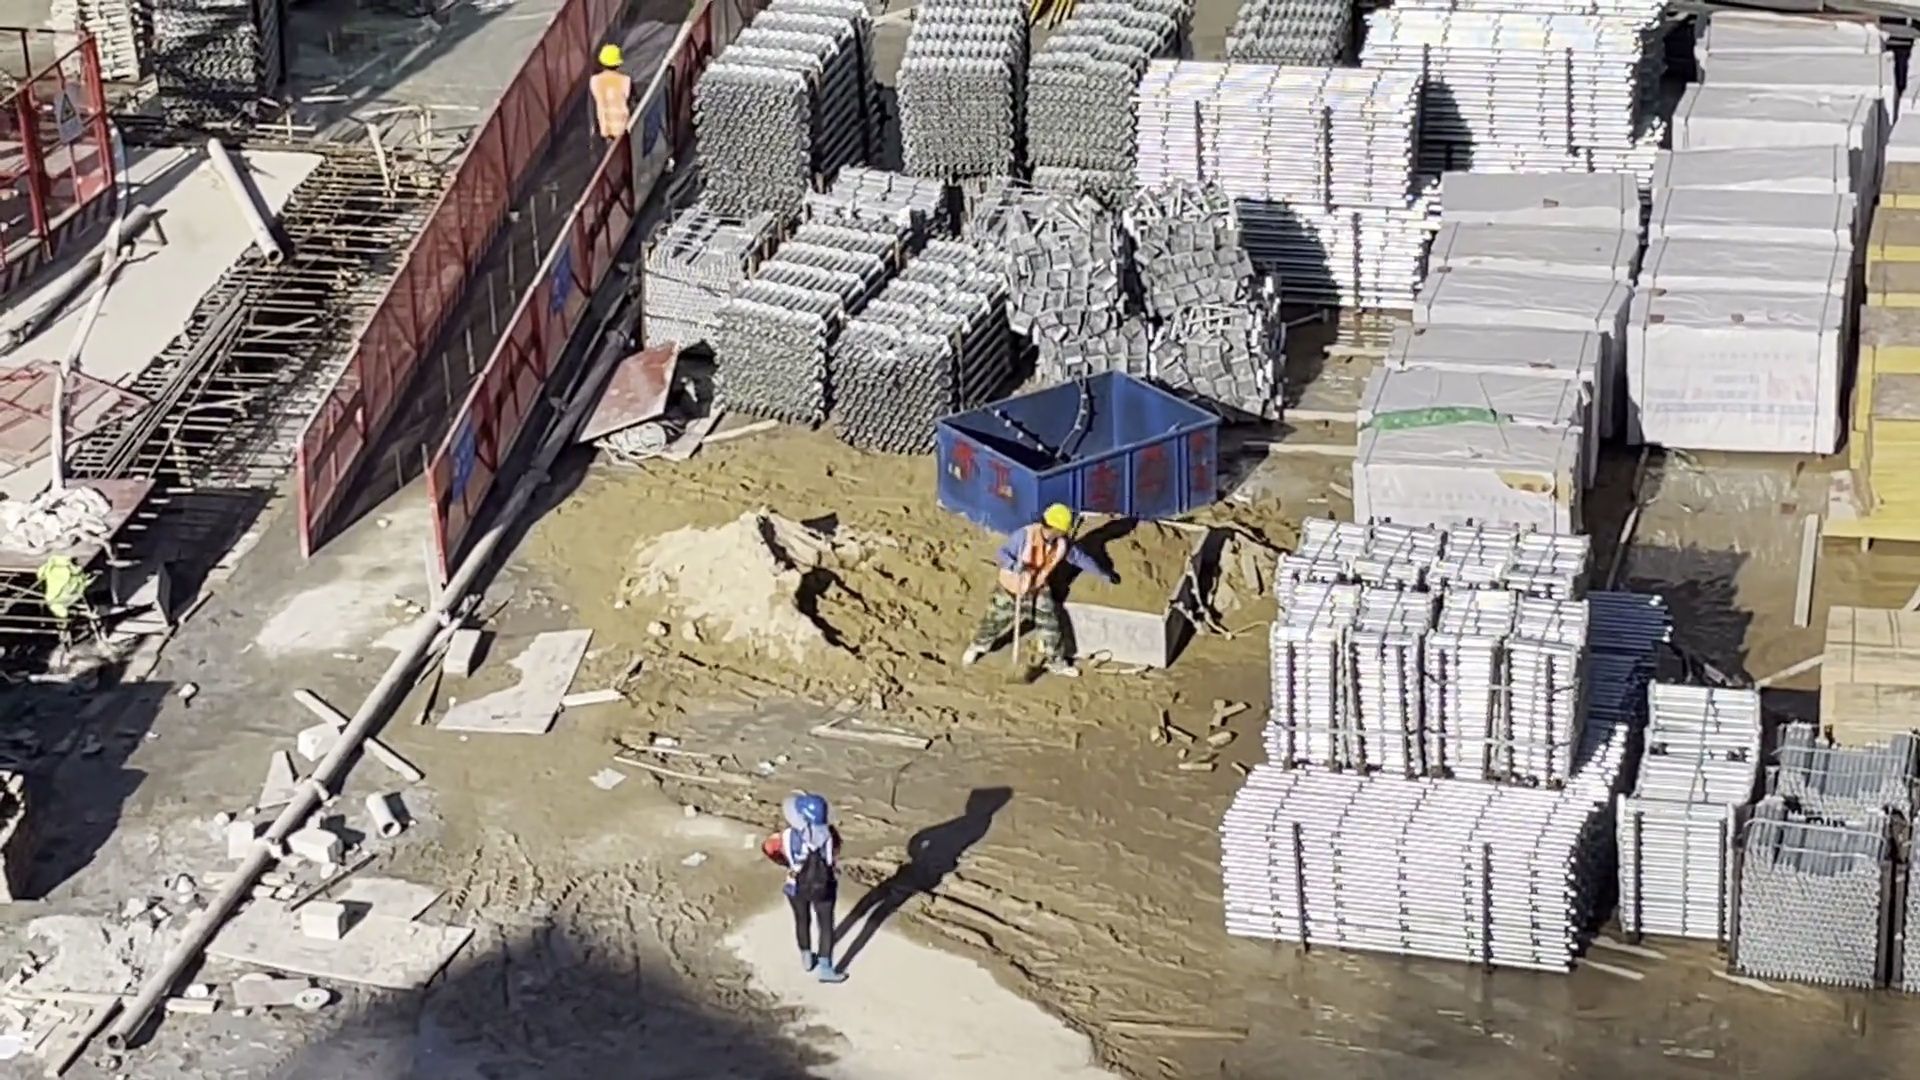board: (1852, 155, 1920, 532), (1824, 608, 1920, 728)
fence: (306, 12, 711, 566)
helmet: (797, 796, 828, 823), (1041, 505, 1071, 531), (598, 46, 622, 67)
hopper: (943, 362, 1216, 538), (1050, 508, 1212, 670)
person: (971, 510, 1074, 676), (775, 796, 840, 984), (585, 46, 633, 156)
scaffold: (1277, 522, 1585, 779), (1220, 770, 1592, 970), (724, 226, 1013, 456), (1138, 64, 1419, 284), (901, 8, 1193, 181), (1744, 726, 1920, 990), (690, 6, 881, 208), (1366, 11, 1650, 143), (1631, 683, 1748, 946), (153, 1, 278, 103), (51, 1, 152, 83), (1231, 1, 1356, 66)
slogan: (444, 422, 479, 485), (547, 249, 573, 316)
vest: (1002, 534, 1065, 595), (589, 68, 632, 137), (788, 826, 812, 892)
